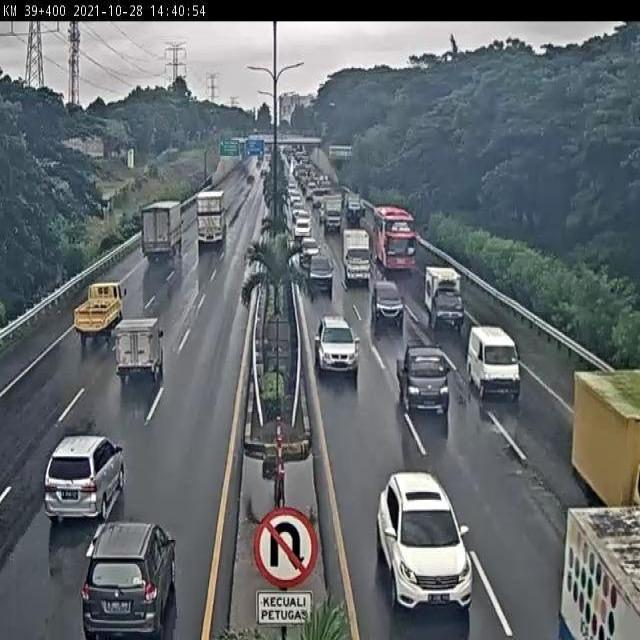big truck: (196, 190, 228, 246)
bus-l-: (372, 204, 416, 275)
car: (375, 469, 471, 614), (82, 517, 180, 640), (44, 429, 125, 522), (468, 326, 522, 402), (395, 342, 450, 414), (314, 316, 360, 377), (369, 279, 405, 325), (307, 253, 334, 291)
small truck: (76, 280, 129, 344), (115, 316, 164, 381)
truck-m-: (142, 200, 185, 259), (342, 228, 373, 288)
truck-s-: (424, 266, 467, 334)
